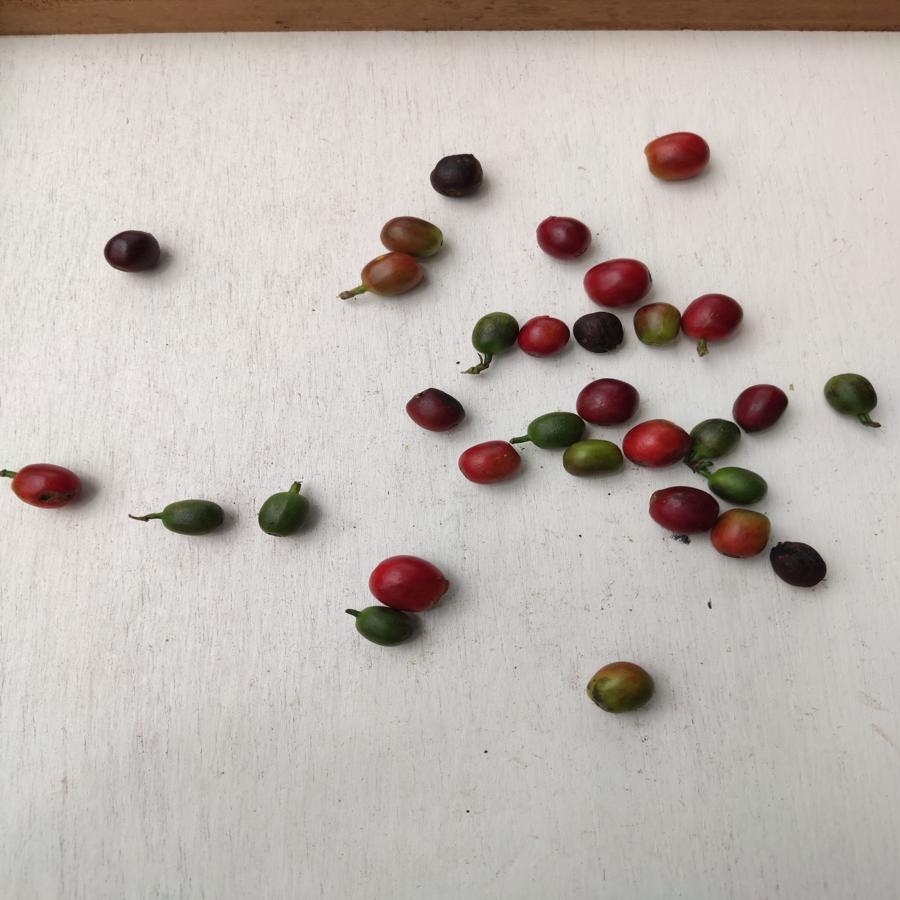Inmaduro: (817, 370, 886, 423), (251, 487, 315, 538), (159, 495, 229, 538), (353, 602, 415, 650), (705, 462, 774, 505), (470, 310, 518, 360), (685, 417, 742, 458), (527, 412, 583, 448)
Maduro: (367, 551, 450, 610), (639, 129, 717, 185), (8, 462, 84, 517), (680, 289, 746, 345), (623, 421, 687, 475), (585, 256, 652, 306), (457, 440, 521, 485), (518, 310, 568, 363)
Pinton: (584, 659, 653, 717), (361, 246, 424, 299), (711, 506, 768, 561), (382, 214, 446, 256), (562, 439, 624, 479), (635, 304, 680, 348)
Sobremaduro: (647, 478, 713, 541), (768, 540, 829, 591), (735, 378, 791, 433), (430, 151, 491, 201), (534, 213, 597, 261), (104, 229, 163, 279), (407, 386, 465, 436), (578, 373, 637, 422), (574, 312, 628, 355)
